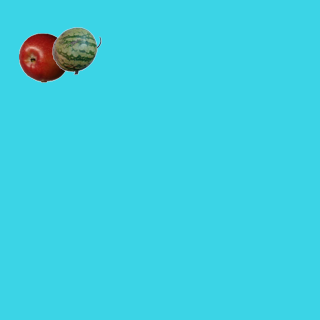Apple Braeburn: (18, 32, 68, 82)
Watermelon: (51, 25, 101, 75)
